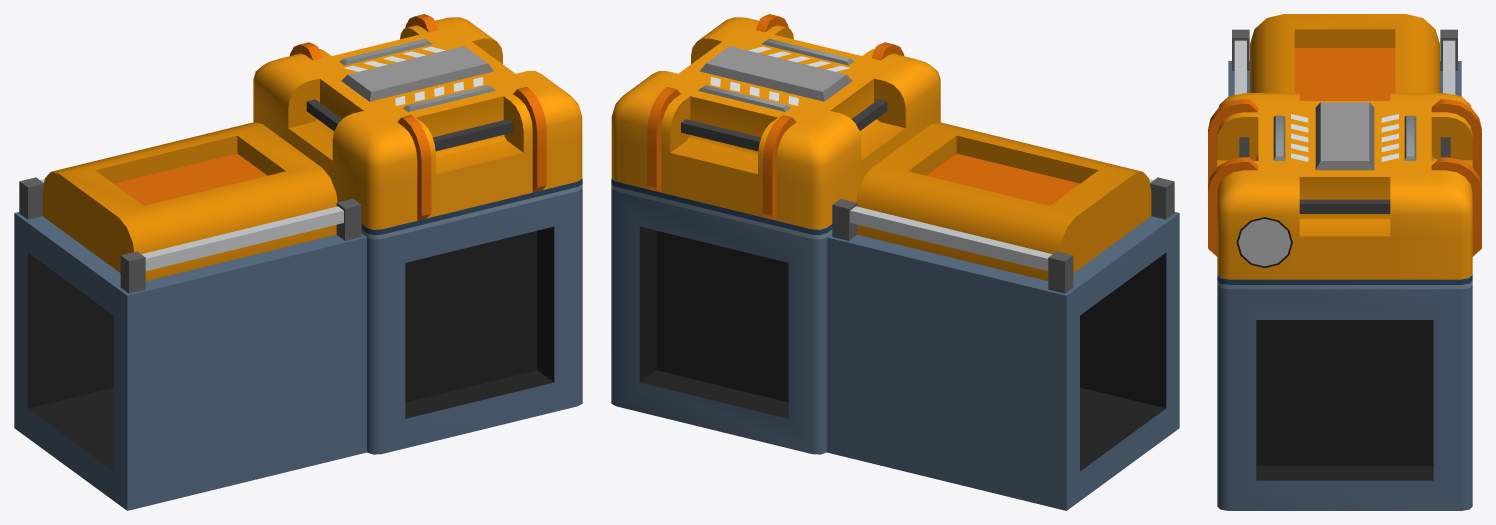
Rendered from Containers_1.fbx.
3 views of the same model, side by side, from view 1: azimuth 30°, elevation 25°; view 2: azimuth 150°, elevation 25°; view 3: azimuth 270°, elevation 25° (orthographic). The views are drawn at different scales.
Visible parts, largest first — view 1: Containers; view 2: Containers; view 3: Containers.
Boxes of the visible parts, <box> form: Containers: <box>14,14,582,510</box>; Containers: <box>611,14,1179,510</box>; Containers: <box>1208,14,1481,510</box>.
Bounding box in the file's own units: 243 × 162 × 123.
